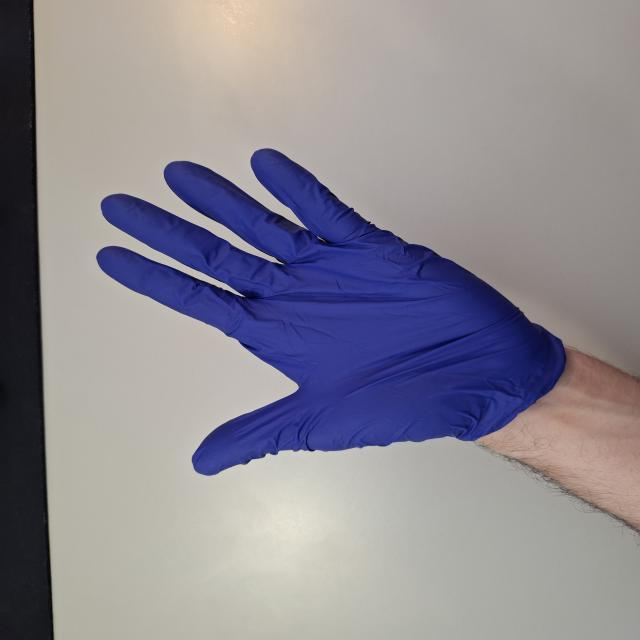glove_on: (92, 146, 570, 480)
